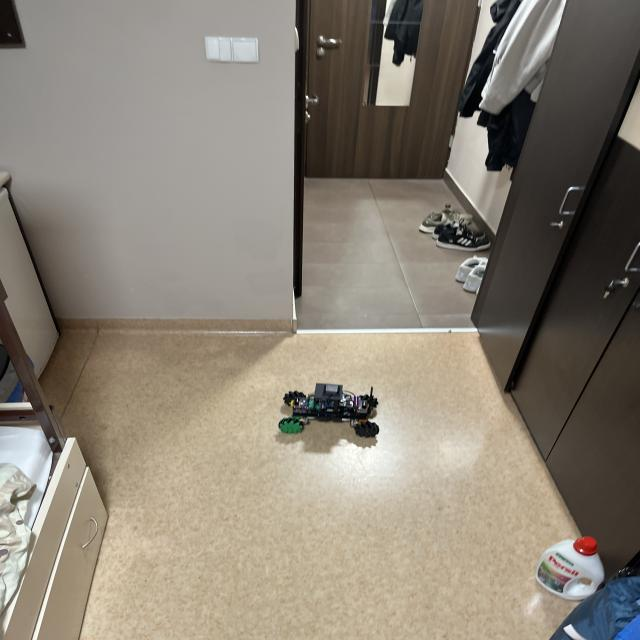robot: (279, 383, 379, 438)
